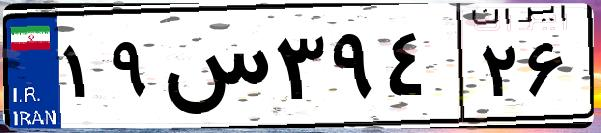1: (57, 26, 110, 100)
2: (475, 38, 525, 113)
3: (270, 28, 330, 110)
4: (385, 28, 445, 110)
6: (525, 38, 570, 115)
9: (330, 28, 385, 110), (110, 28, 158, 98)
س: (158, 20, 270, 120)
